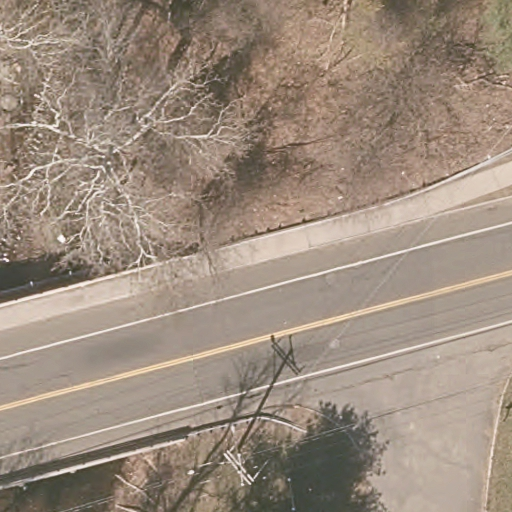DT: (224, 438, 262, 487)
